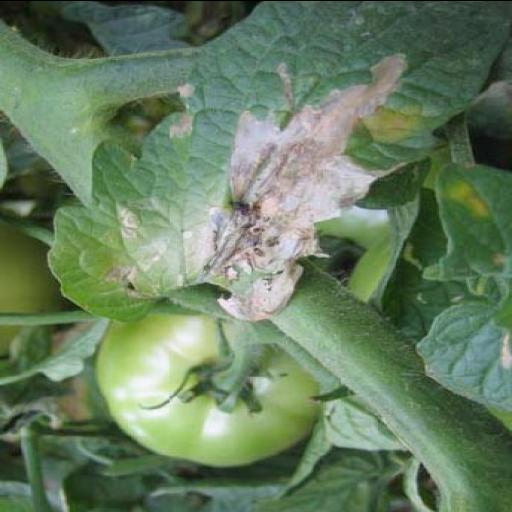Leaf Miner: (44, 0, 510, 323)
